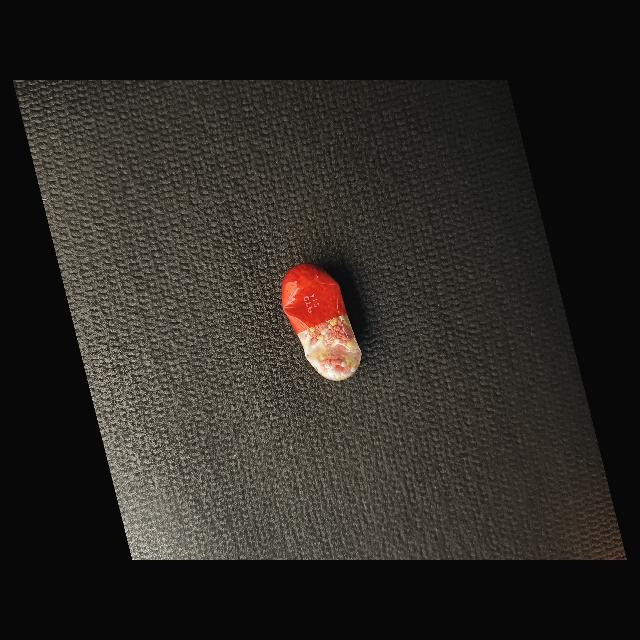Defective Capsule: (282, 263, 362, 381)
